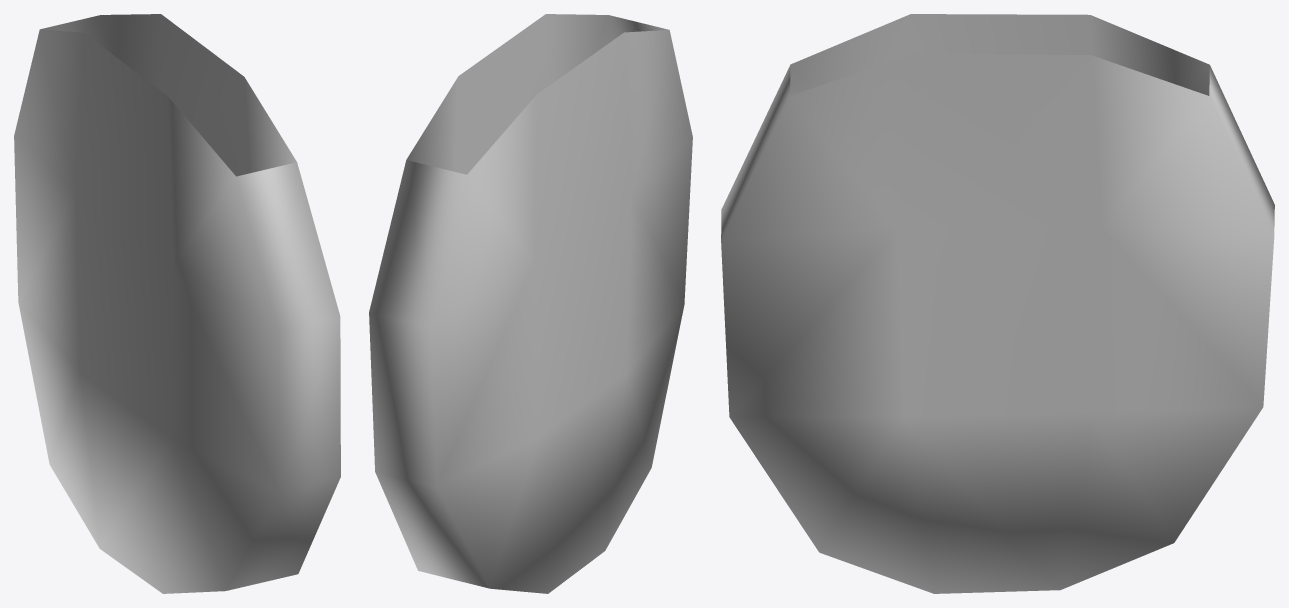
The model's file is Finn_Tooth.dae.
3 views of the same model, side by side, from view 1: azimuth 30°, elevation 25°; view 2: azimuth 150°, elevation 25°; view 3: azimuth 270°, elevation 25° (orthographic). The views are drawn at different scales.
Parts seen in each view (by area): view 1: Finn_Tooth; view 2: Finn_Tooth; view 3: Finn_Tooth.
Part boxes in pixels (x1,y1,x2,y2): Finn_Tooth: (14,14,340,593); Finn_Tooth: (369,14,692,593); Finn_Tooth: (721,14,1274,593).
Size of the model in its own units: 0.9029 by 4.61 by 4.92.
Materials: 1 (1 with a texture image).
